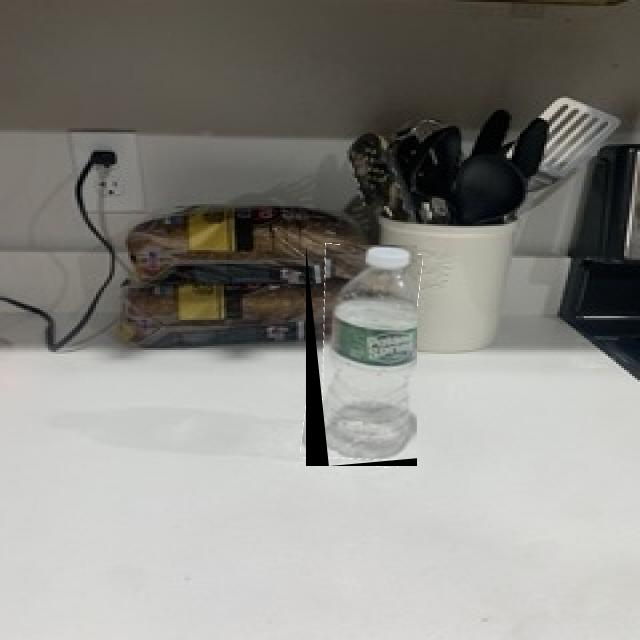water_bottle: (306, 245, 417, 466)
